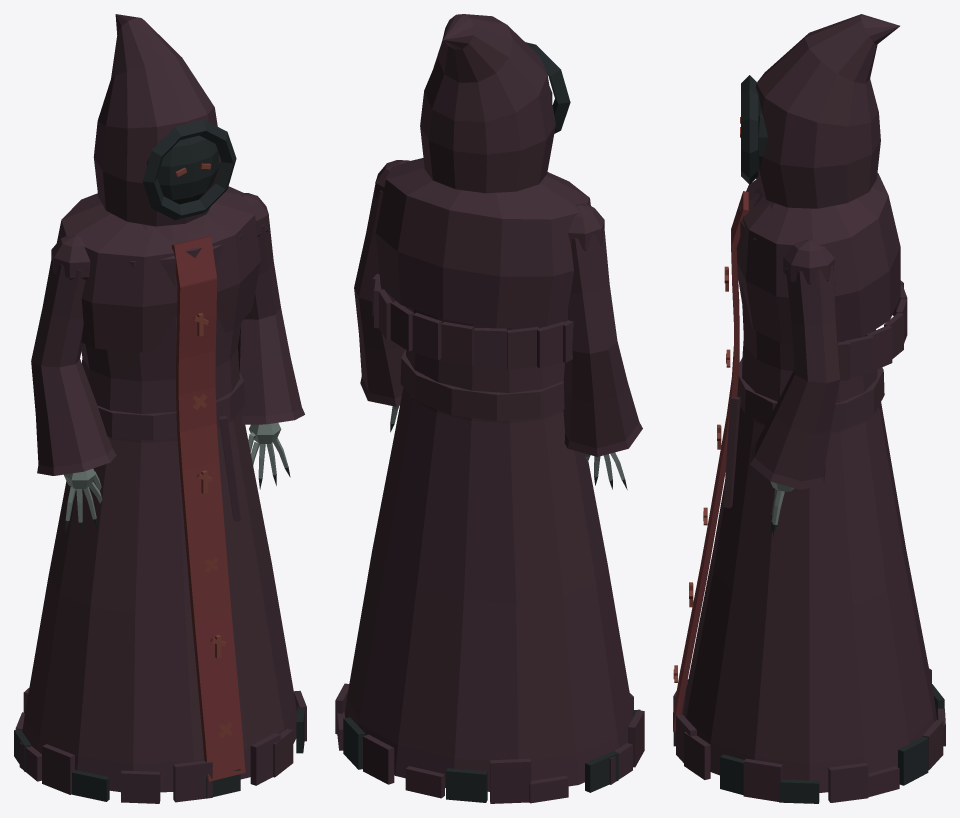
File: vrajitor_1.glb
The picture shows the model from 3 angles, left to right: view 1: azimuth 30°, elevation 25°; view 2: azimuth 150°, elevation 25°; view 3: azimuth 270°, elevation 25°; orthographic projection. The views are drawn at different scales.
Parts seen in each view (by area): view 1: Corp, Cap, BratDrept, BratStang, Lumini; view 2: Corp, Cap, BratDrept, BratStang; view 3: Corp, Cap, BratStang, Lumini.
Part boxes in pixels (x1=…): Corp: x1=14, y1=186, x2=306, y2=803; Cap: x1=93, y1=14, x2=236, y2=226; BratDrept: x1=31, y1=235, x2=116, y2=532; BratStang: x1=238, y1=193, x2=304, y2=489; Lumini: x1=192, y1=313, x2=232, y2=737; Corp: x1=335, y1=158, x2=644, y2=803; Cap: x1=420, y1=14, x2=570, y2=193; BratDrept: x1=563, y1=203, x2=642, y2=489; BratStang: x1=354, y1=160, x2=409, y2=432; Corp: x1=673, y1=173, x2=945, y2=803; Cap: x1=741, y1=14, x2=899, y2=208; BratStang: x1=750, y1=239, x2=840, y2=536; Lumini: x1=673, y1=266, x2=730, y2=682.
Size of the model in its own units: 0.7707 by 2.02 by 0.6897.
